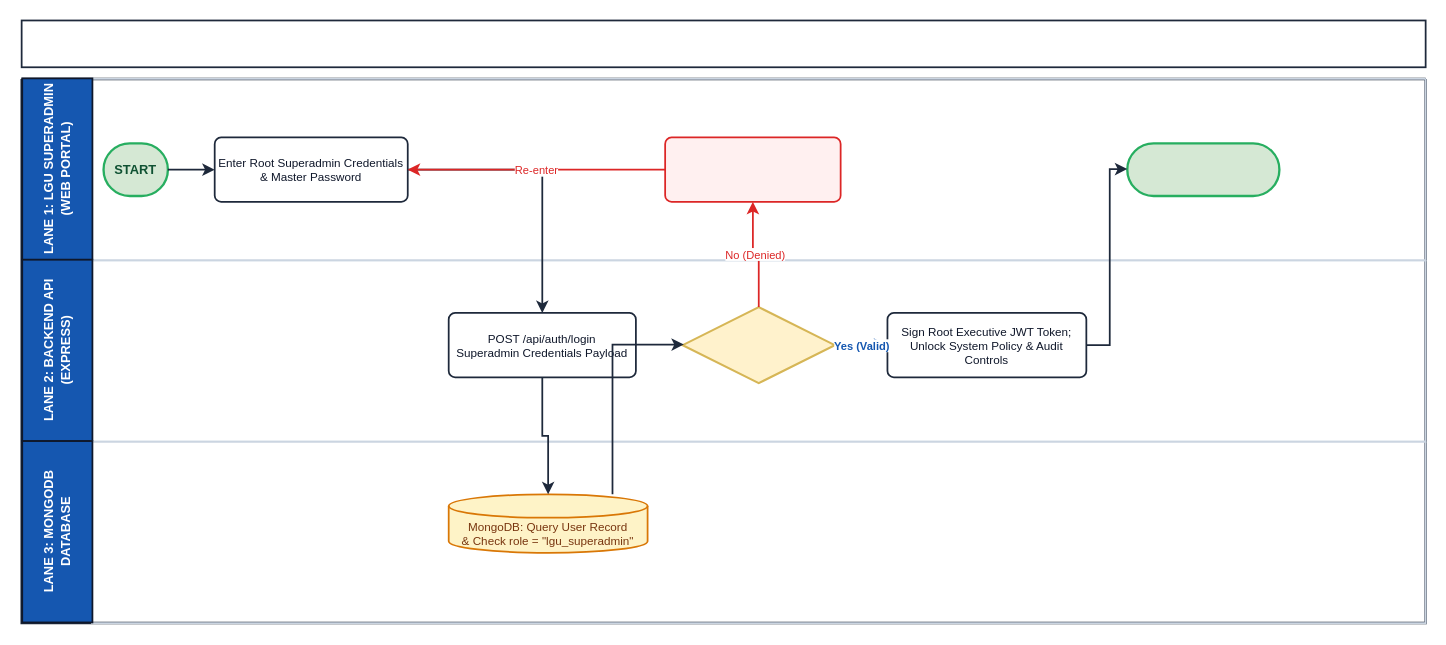
This 1446x645 diagram has some shape labels left out. Here are the shapes that lost their labels. From the top down, the centre of each, then its label:
point 723,43: Process Flow [PF-SA01]: Login (Superadmin) Module (Linked Use Case: UC-SA01)
point 752,169: Show "Access Denied" Security Alert Banner
point 1203,169: END (Executive Active)
point 758,344: Superadmin Role Valid?
